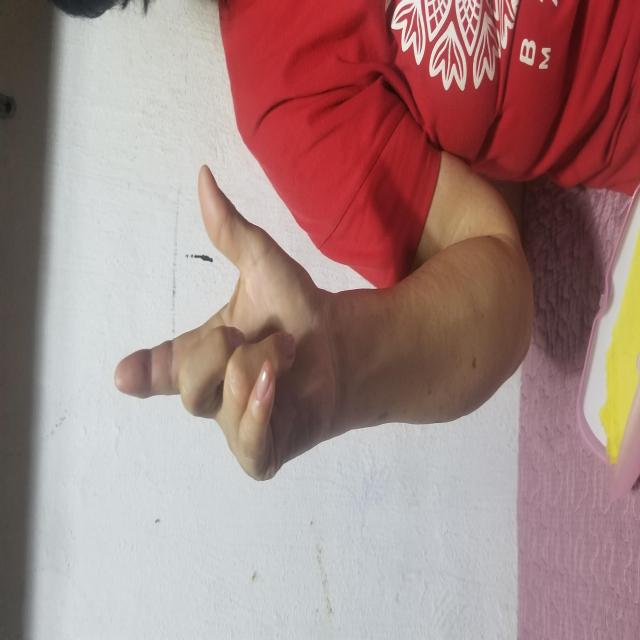L: (158, 112, 474, 334)
